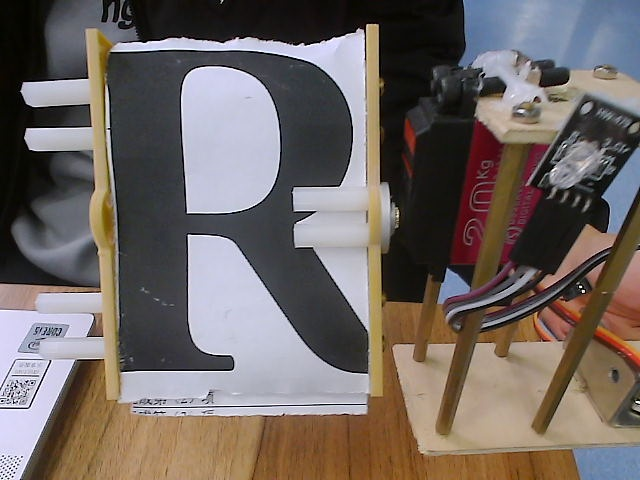R: (29, 4, 381, 428)
